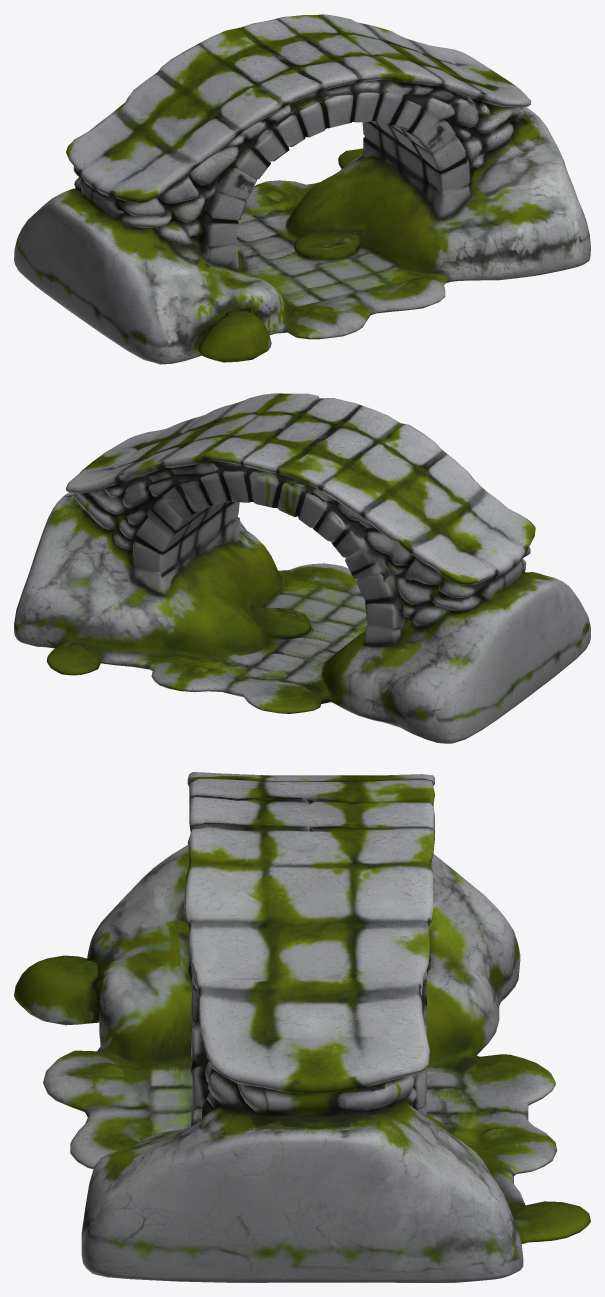
File: stone_bridge.glb
The picture shows the model from 3 angles, top to bottom: view 1: azimuth 30°, elevation 25°; view 2: azimuth 150°, elevation 25°; view 3: azimuth 270°, elevation 25°; orthographic projection. The views are drawn at different scales.
Parts seen in each view (by area): view 1: stone_bridge_mesh; view 2: stone_bridge_mesh; view 3: stone_bridge_mesh.
Boxes of the visible parts, left/top/right/bottom form: stone_bridge_mesh: left=14, top=14, right=590, bottom=364; stone_bridge_mesh: left=14, top=393, right=590, bottom=743; stone_bridge_mesh: left=14, top=772, right=590, bottom=1282.
Size of the model in its own units: 1.91 by 0.8376 by 1.41.
1 material, 1 textured.
